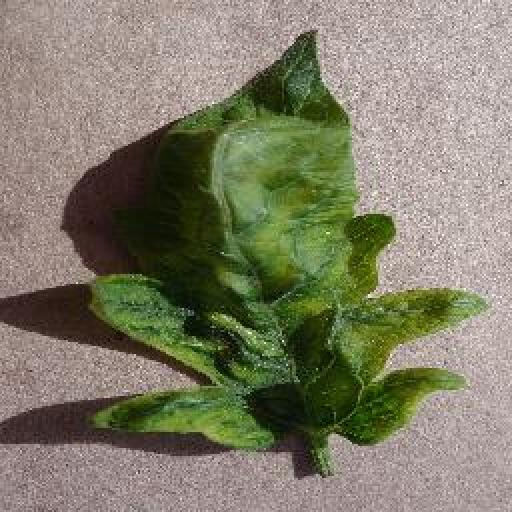Yellow Leaf Curl Virus: (88, 26, 493, 450)
